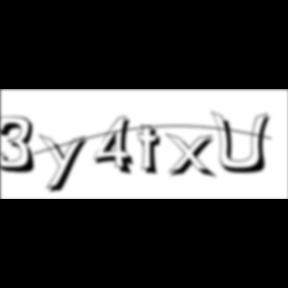3: (0, 116, 42, 176)
4: (94, 115, 140, 179)
U: (212, 110, 276, 176)
t: (138, 124, 168, 179)
x: (165, 132, 220, 181)
y: (39, 132, 93, 196)
